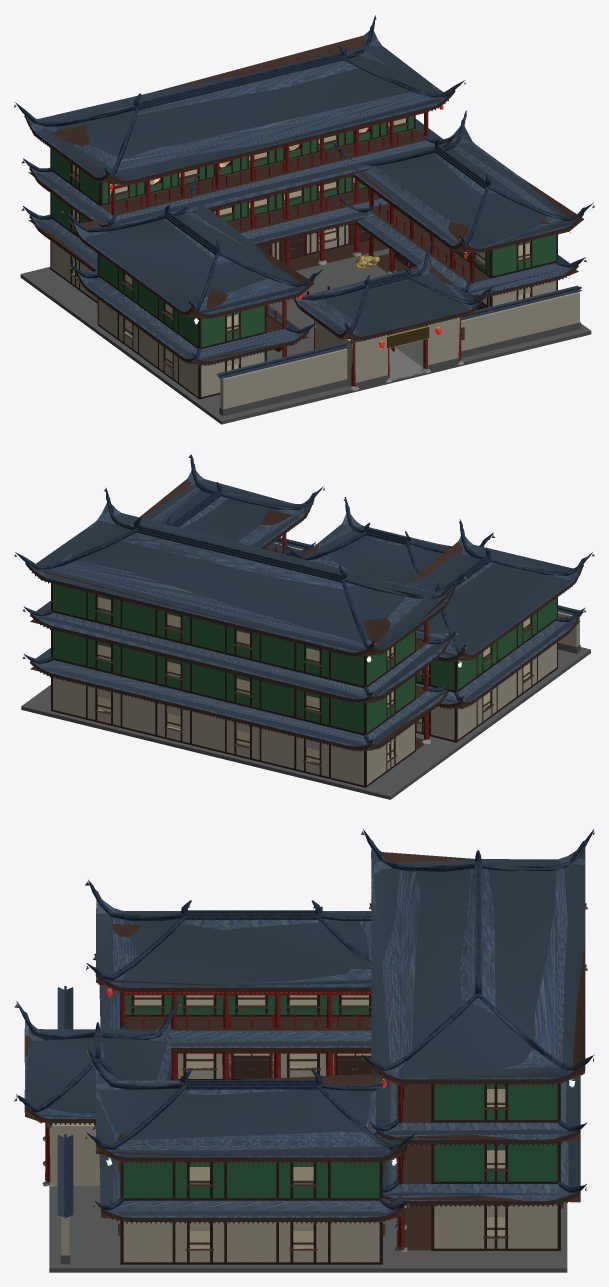
File: prop_inn_courtyard.gltf
3 views of the same model, one above another, from view 1: azimuth 30°, elevation 25°; view 2: azimuth 150°, elevation 25°; view 3: azimuth 270°, elevation 25° (orthographic). The views are drawn at different scales.
Parts seen in each view (by area): view 1: Far, Near; view 2: Far, Near; view 3: Far, Near.
Part boxes in pixels (x1=…): Far: x1=20, y1=16, x2=592, y2=424; Near: x1=14, y1=15, x2=594, y2=399; Far: x1=21, y1=454, x2=592, y2=799; Near: x1=14, y1=454, x2=594, y2=787; Far: x1=16, y1=830, x2=593, y2=1272; Near: x1=14, y1=829, x2=594, y2=1264.
Size of the model in its own units: 37.38 by 16.58 by 35.9.
Materials: 26 (18 with a texture image).
